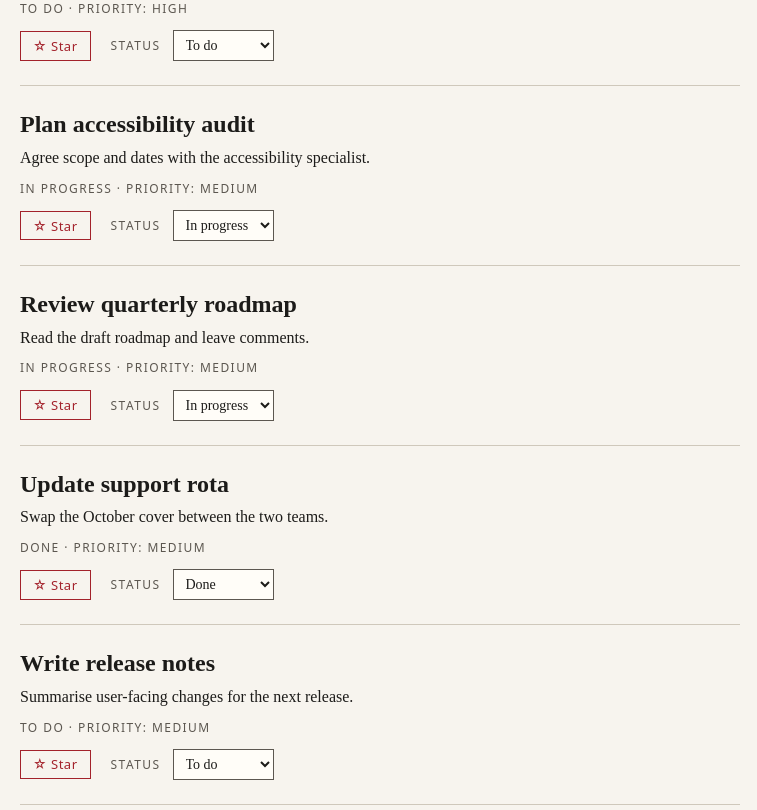
App › combines 'Starred only' with the status filter (AC3)
(page scrolled)
Click the button with aria-label "Star Review quarterly roadmap" at (55, 405), box [20,390,91,420]
(page scrolled)
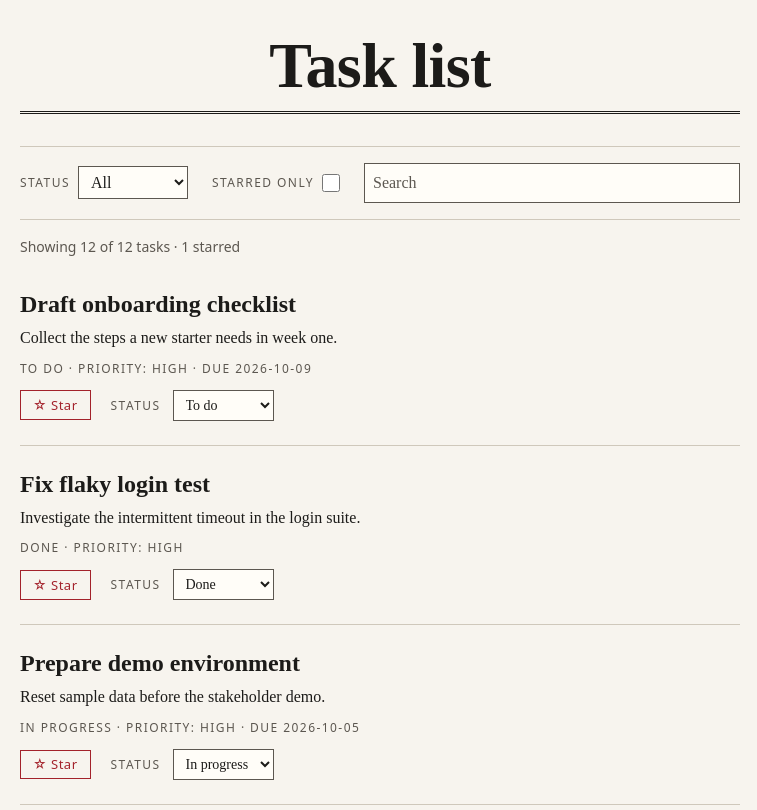
Click the button with aria-label "Star Draft onboarding checklist" at (55, 405), box [20,390,91,420]
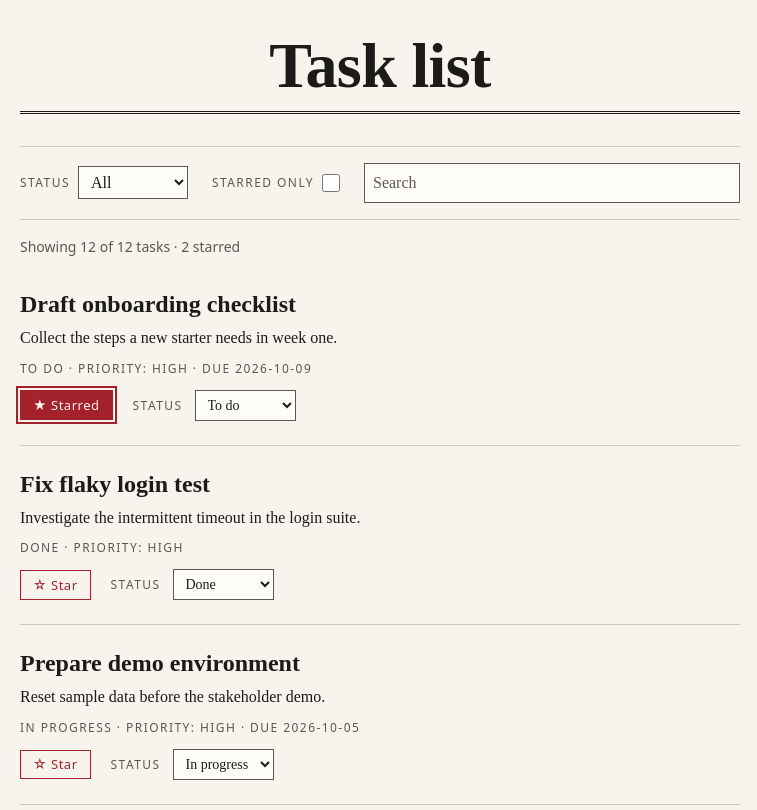
Click the checkbox labelled "Starred only" at (331, 183), box [322,174,340,192]
(page scrolled)
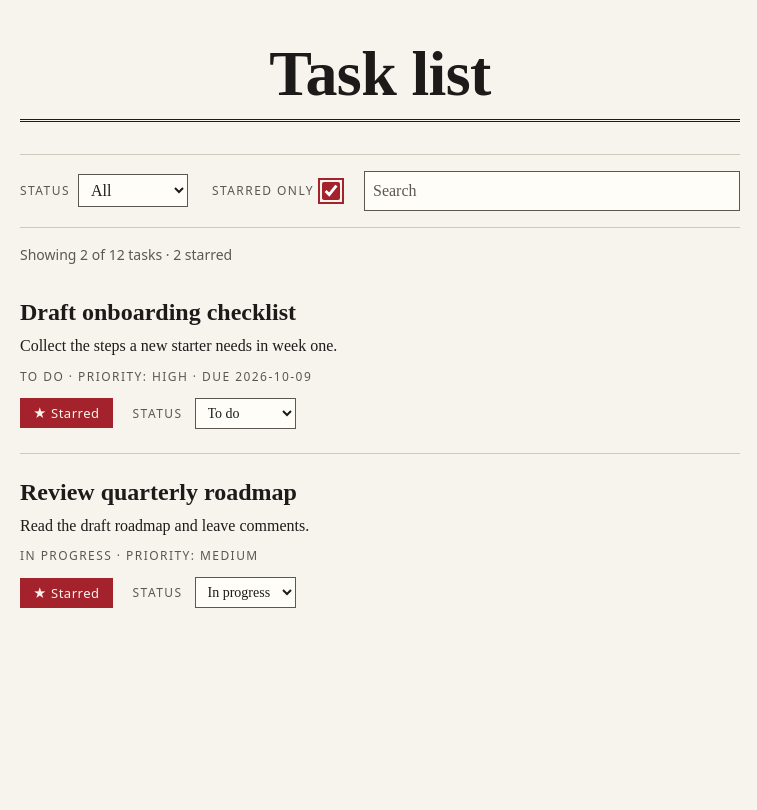
Select "In progress" in the dropdown labelled "Status" next to "Starred only" at (133, 191), box [78,174,188,208]
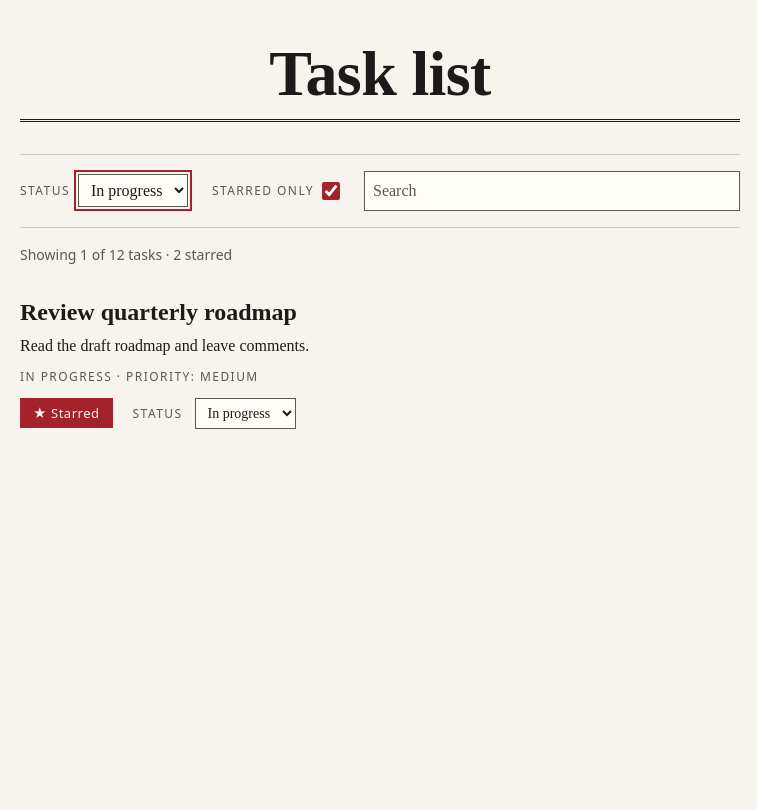
Expected: the list item shows "Review quarterly roadmap", [20,299,297,325]
Now the number of list items is 1, box [20,299,423,429]
